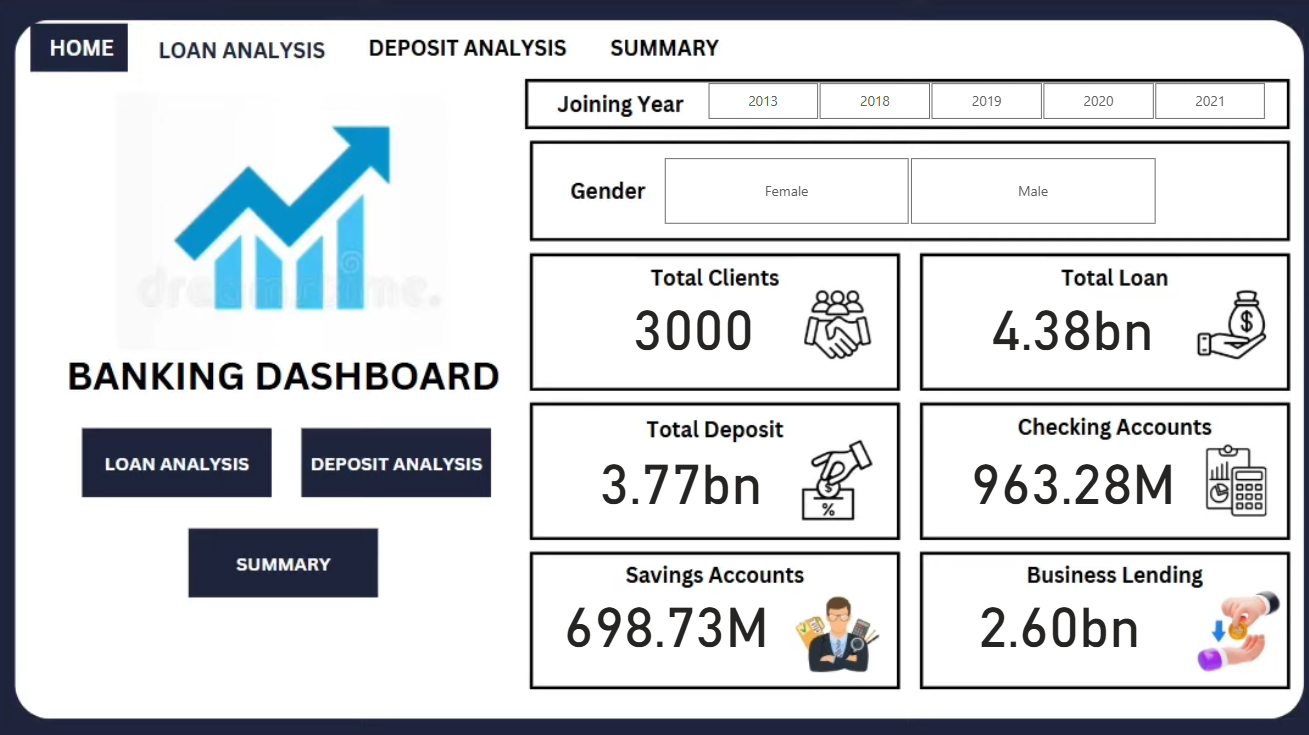

This screenshot's page, from the dashboard's own definition file:
{"tool":"powerbi","page":{"name":"Home","canvas":[1280,720],"ordinal":0},"visuals":[{"type":"card","fields":{"Values":["CountNonNull(banking.Name)"]},"box":[558.6,292,231.6,67.6],"z":0},{"type":"card","fields":{"Values":["banking.TotalLoan"]},"box":[924.1,292,231.6,67.6],"z":1000},{"type":"card","fields":{"Values":["banking.TotalDeposite"]},"box":[546.5,440.4,231.6,67.6],"z":2000},{"type":"card","fields":{"Values":["Sum(banking.Checking_Accounts)"]},"box":[924.1,440.4,232.8,67.6],"z":3000},{"type":"card","fields":{"Values":["Sum(banking.Saving_Accounts)"]},"box":[532,577.9,231.6,68.8],"z":4000},{"type":"card","fields":{"Values":["Sum(banking.Business Lending)"]},"box":[910.9,577.9,232.8,68.8],"z":5000},{"type":"slicer","fields":{"Values":["banking.Year of joining"]},"box":[662.3,76,587.5,48.3],"z":6000},{"type":"actionButton","box":[90.5,423.5,172.5,50.7],"z":7000},{"type":"actionButton","box":[301.6,423.5,172.5,50.7],"z":8000},{"type":"actionButton","box":[194.2,517.6,172.5,50.7],"z":9000},{"type":"slicer","fields":{"Values":["banking.Gender"]},"box":[620.1,148.4,523.6,77.2],"z":10000},{"type":"actionButton","box":[152,36.2,174.9,39.8],"z":11000},{"type":"actionButton","box":[349.9,27.7,208.7,39.8],"z":12000},{"type":"actionButton","box":[588.7,29,117,39.8],"z":13000}]}

Visuals, with their boxes in screenshot pixels (x1, y1, x2, y2), scaled from the page's 1280x720 canvas onto the 1309x735 screenshot:
card - CountNonNull(banking.Name): x1=571 y1=298 x2=808 y2=367
card - banking.TotalLoan: x1=945 y1=298 x2=1182 y2=367
card - banking.TotalDeposite: x1=559 y1=450 x2=796 y2=519
card - Sum(banking.Checking_Accounts): x1=945 y1=450 x2=1183 y2=519
card - Sum(banking.Saving_Accounts): x1=544 y1=590 x2=781 y2=660
card - Sum(banking.Business Lending): x1=932 y1=590 x2=1170 y2=660
slicer - banking.Year of joining: x1=677 y1=78 x2=1278 y2=127
actionButton: x1=93 y1=432 x2=269 y2=484
actionButton: x1=308 y1=432 x2=485 y2=484
actionButton: x1=199 y1=528 x2=375 y2=580
slicer - banking.Gender: x1=634 y1=151 x2=1170 y2=230
actionButton: x1=155 y1=37 x2=334 y2=78
actionButton: x1=358 y1=28 x2=571 y2=69
actionButton: x1=602 y1=30 x2=722 y2=70
